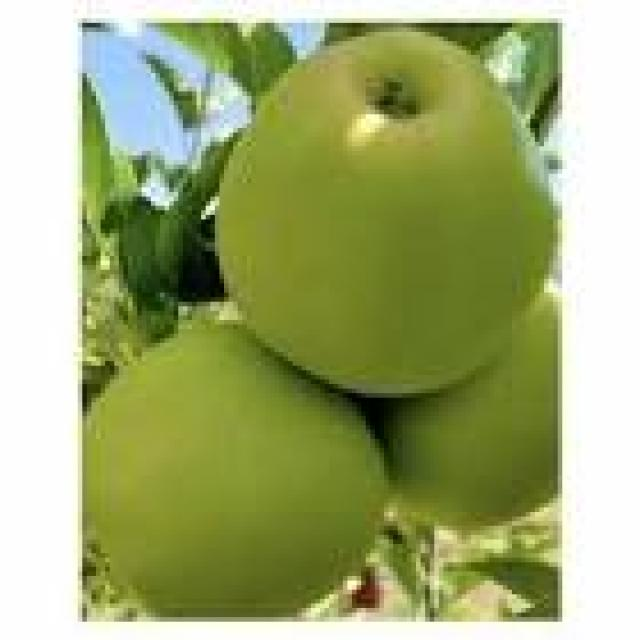apple: (215, 28, 557, 393), (83, 320, 388, 617), (380, 293, 557, 530)
